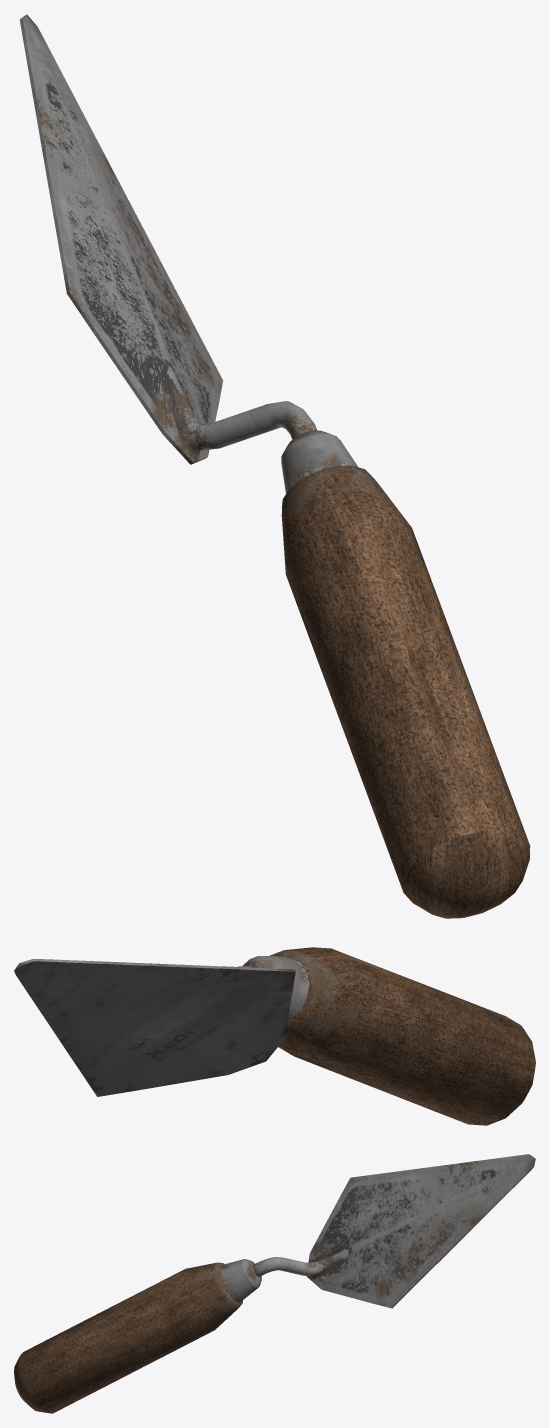
File: archaeology_trowel_low_poly.glb
The picture shows the model from 3 angles, top to bottom: view 1: azimuth 30°, elevation 25°; view 2: azimuth 150°, elevation 25°; view 3: azimuth 270°, elevation 25°; orthographic projection. The views are drawn at different scales.
Visible parts, largest first — view 1: Cylinder; view 2: Cylinder; view 3: Cylinder.
Part boxes in pixels (left/top/right/bottom): Cylinder: left=19, top=14, right=530, bottom=918; Cylinder: left=14, top=947, right=535, bottom=1125; Cylinder: left=14, top=1154, right=535, bottom=1413.
Size of the model in its own units: 0.0797 by 0.2064 by 0.3665.
1 material, 1 textured.
